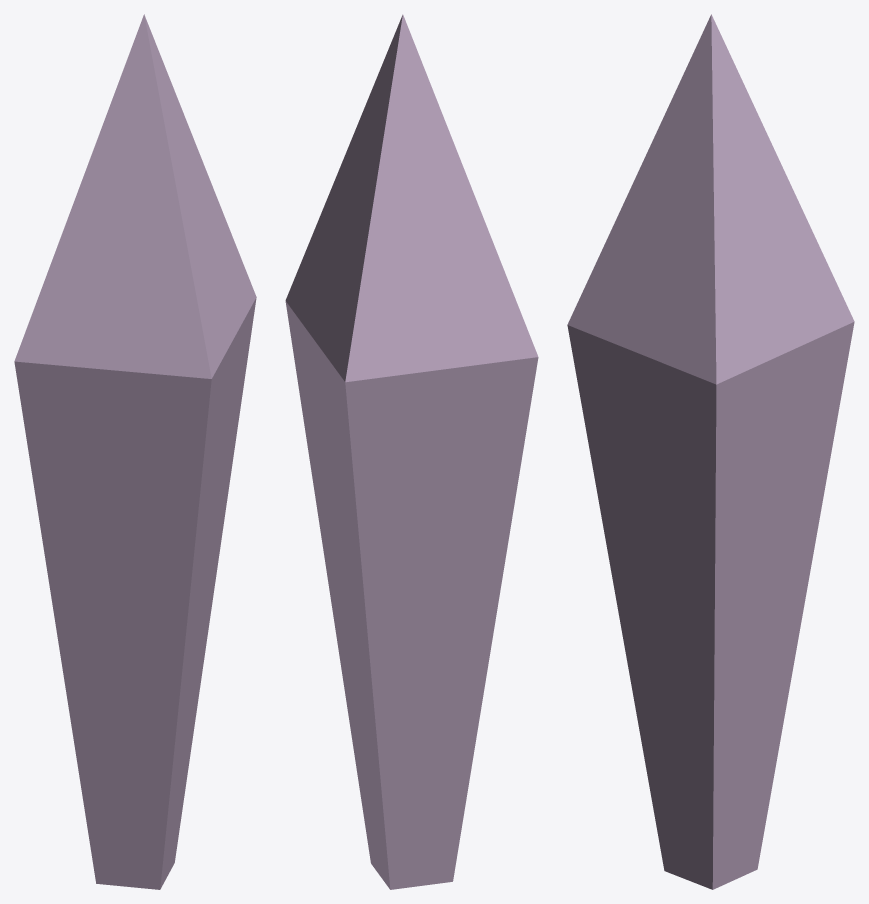
File: CrystalShort.fbx
3 renders of one model, left to right at view 1: azimuth 30°, elevation 25°; view 2: azimuth 150°, elevation 25°; view 3: azimuth 270°, elevation 25°, orthographic.
Parts seen in each view (by area): view 1: CrystalShort1; view 2: CrystalShort1; view 3: CrystalShort1.
Boxes of the visible parts, <box> form: CrystalShort1: <box>14,14,256,889</box>; CrystalShort1: <box>285,14,538,889</box>; CrystalShort1: <box>567,14,854,889</box>.
Size of the model in its own units: 0.8142 by 2.69 by 0.8142.
